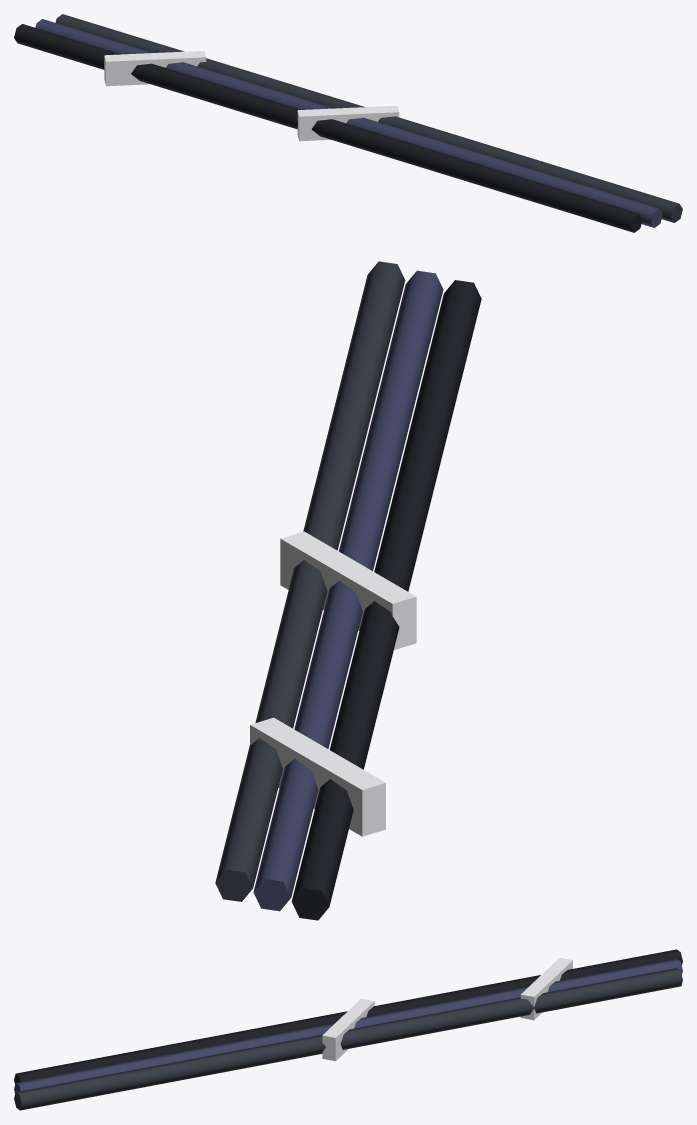
File: station_buffer_ausstattung_3_1.glb
3 views of the same model, one above another, from view 1: azimuth 30°, elevation 25°; view 2: azimuth 150°, elevation 25°; view 3: azimuth 270°, elevation 25° (orthographic). The views are drawn at different scales.
Visible parts, largest first — view 1: station_buffer_ausstattung_3_1; view 2: station_buffer_ausstattung_3_1; view 3: station_buffer_ausstattung_3_1.
Boxes of the visible parts, x1,y1,x2,y2 form: station_buffer_ausstattung_3_1: (14, 14, 682, 232); station_buffer_ausstattung_3_1: (215, 261, 481, 920); station_buffer_ausstattung_3_1: (14, 949, 682, 1110).
Size of the model in its own units: 0.4836 by 0.035 by 0.9105.
